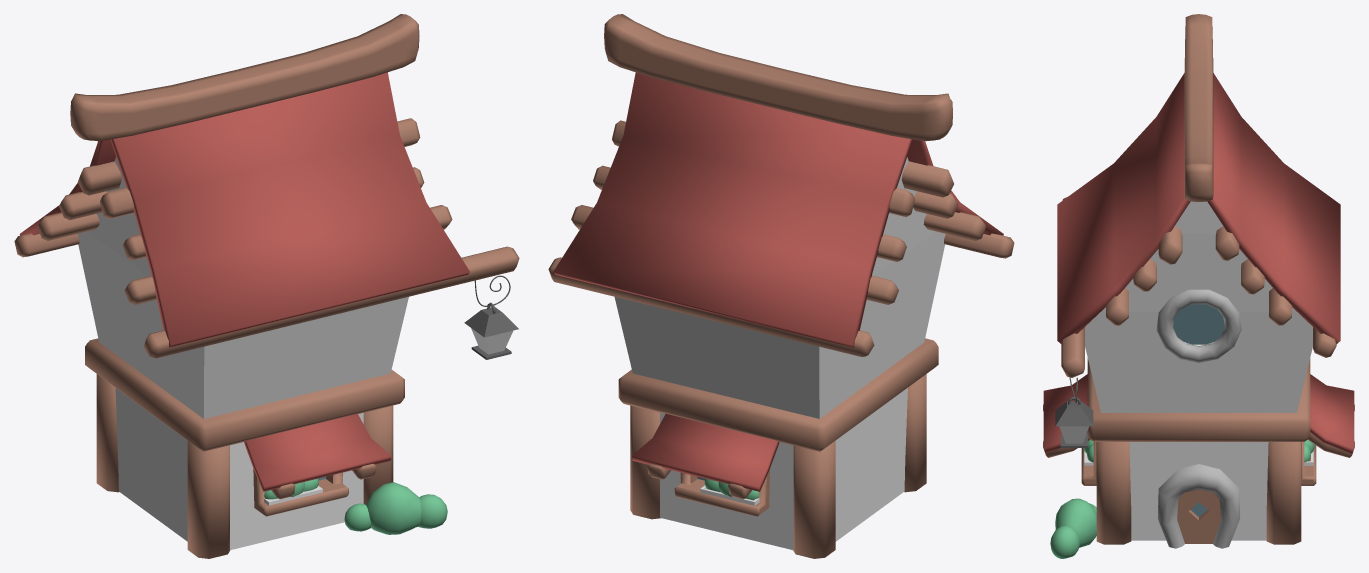
Rendered from MSH_house1.fbx.
3 views of the same model, side by side, from view 1: azimuth 30°, elevation 25°; view 2: azimuth 150°, elevation 25°; view 3: azimuth 270°, elevation 25° (orthographic). The views are drawn at different scales.
Parts seen in each view (by area): view 1: Roofs, House, Vegetation, Cube; view 2: Roofs, House, Vegetation; view 3: House, Roofs, Vegetation, Cube.
Boxes of the visible parts, x1,y1,x2,y2 form: Roofs: [14, 14, 519, 499]; House: [78, 157, 408, 558]; Vegetation: [264, 478, 447, 534]; Cube: [464, 275, 518, 359]; Roofs: [548, 14, 1014, 499]; House: [614, 157, 945, 558]; Vegetation: [700, 478, 759, 505]; House: [1081, 201, 1316, 548]; Roofs: [1043, 14, 1354, 457]; Vegetation: [1050, 440, 1314, 558]; Cube: [1055, 377, 1093, 447].
Bounding box in the file's own units: 505 × 653 × 748.
